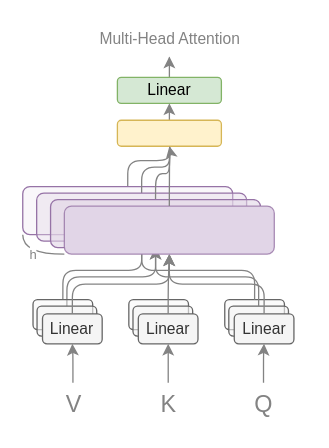
This 329x448 diagram has some shape labels left out. The shapes that lost their labels are listed below. From the top down, each one's centre as x and y in pixels, then its label:
At point 168,132: "Concat".
At point 168,229: "Scaled Dot-Product Attn".
